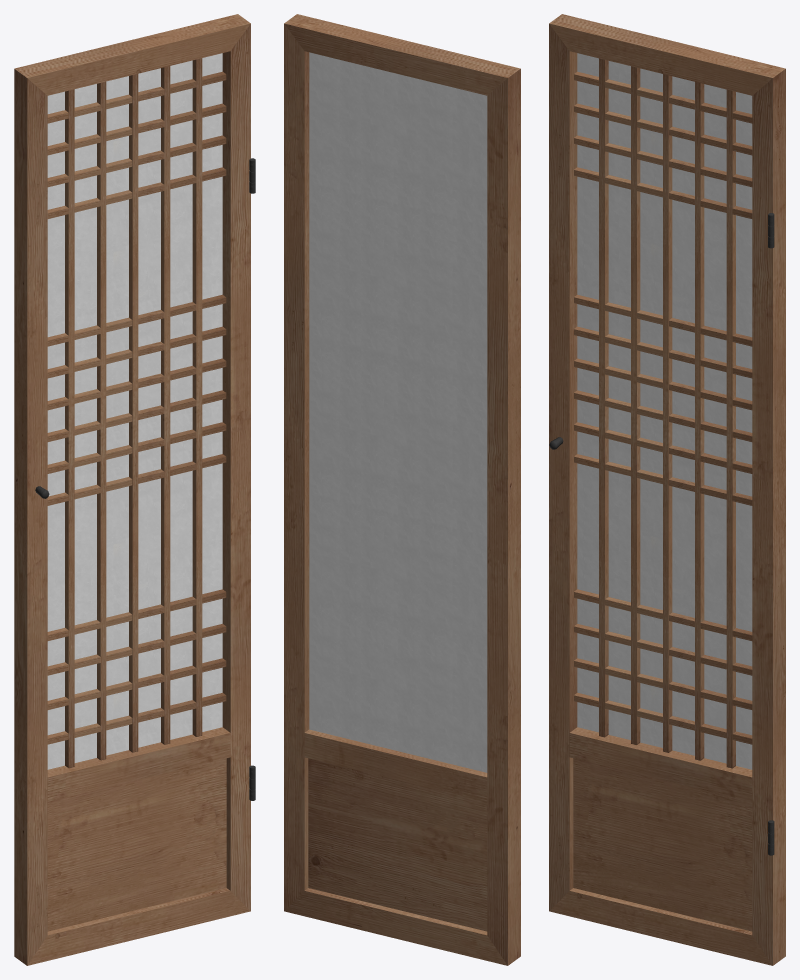
Rendered from SM_Yeonkyung_Sarangchae_Win_E_001.fbx.
3 views of the same model, side by side, from view 1: azimuth 30°, elevation 25°; view 2: azimuth 150°, elevation 25°; view 3: azimuth 330°, elevation 25° (orthographic).
Parts seen in each view (by area): view 1: SM_Yeonkyung_Sarangchae_Win_E_001; view 2: SM_Yeonkyung_Sarangchae_Win_E_001; view 3: SM_Yeonkyung_Sarangchae_Win_E_001.
Boxes of the visible parts, x1=… form: SM_Yeonkyung_Sarangchae_Win_E_001: x1=14, y1=14, x2=255, y2=965; SM_Yeonkyung_Sarangchae_Win_E_001: x1=284, y1=14, x2=520, y2=965; SM_Yeonkyung_Sarangchae_Win_E_001: x1=549, y1=14, x2=785, y2=965.
Bounding box in the file's own units: 50.36 × 189 × 8.18.
